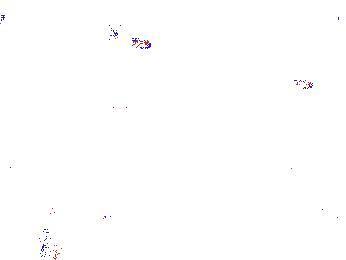red belly glassfish: (108, 26, 154, 53), (277, 72, 314, 91)
redtail glassfish: (108, 89, 167, 117)
siberian prawn: (37, 221, 112, 251)
